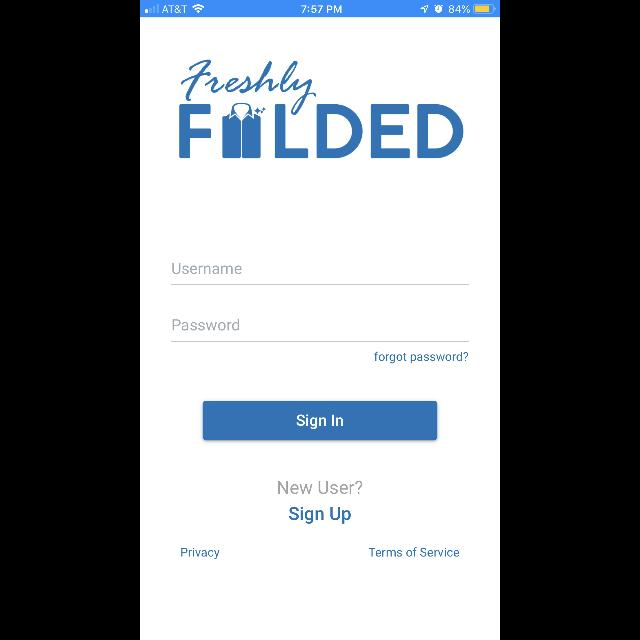image: (180, 60, 464, 158)
input: (172, 318, 468, 342), (172, 263, 468, 285)
text: (374, 352, 468, 364), (289, 506, 351, 524), (278, 482, 362, 494), (368, 547, 459, 557), (173, 319, 239, 331), (172, 264, 242, 274), (182, 548, 220, 558)
textbutton: (203, 402, 437, 441)
uppertaskbar: (140, 1, 500, 18)
